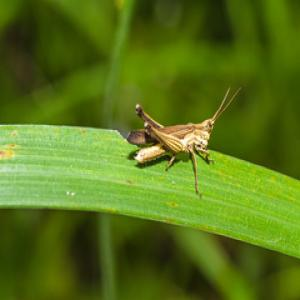locust: (109, 87, 243, 177)
